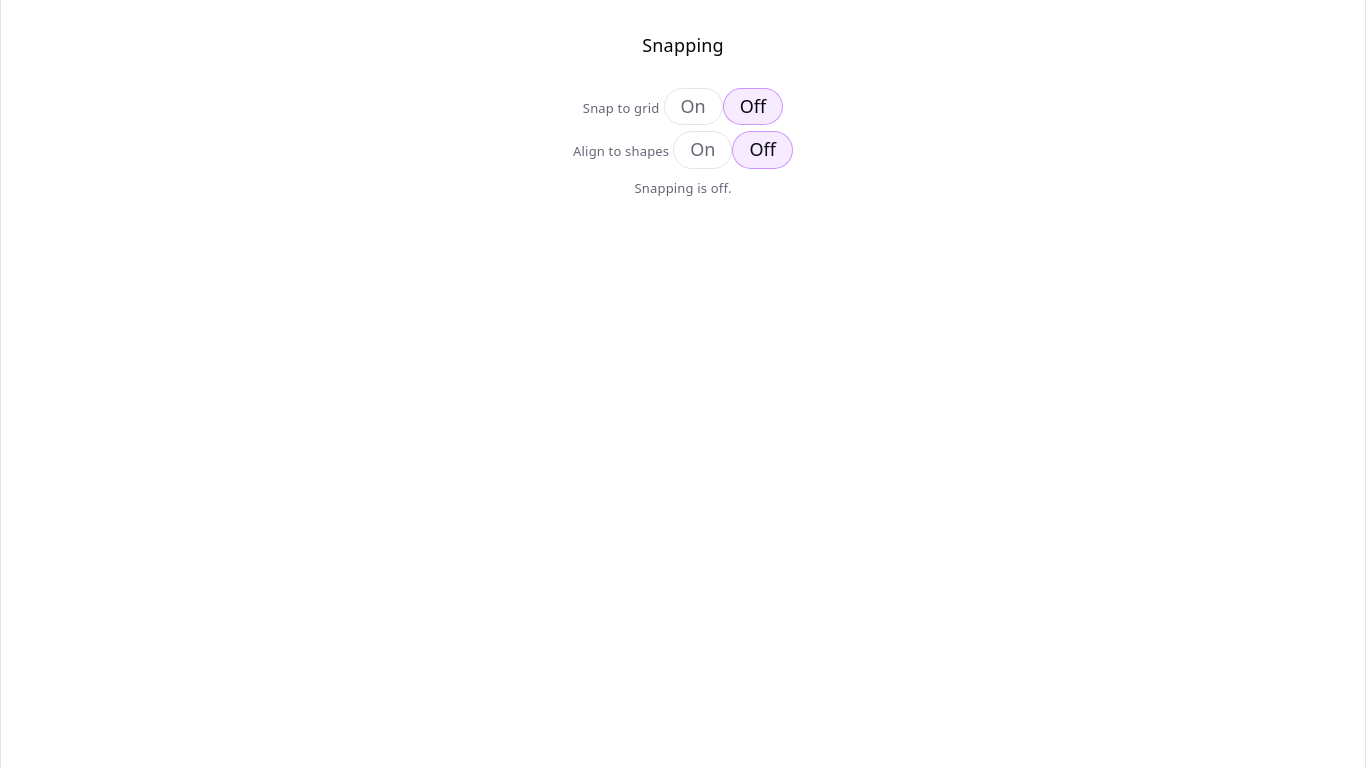
SnapPreferenceControl › turning on both grid and guides is reflected in the status region
Click the radio button labelled "On" next to "Snap to grid" at (693, 107), box [664,88,723,125]
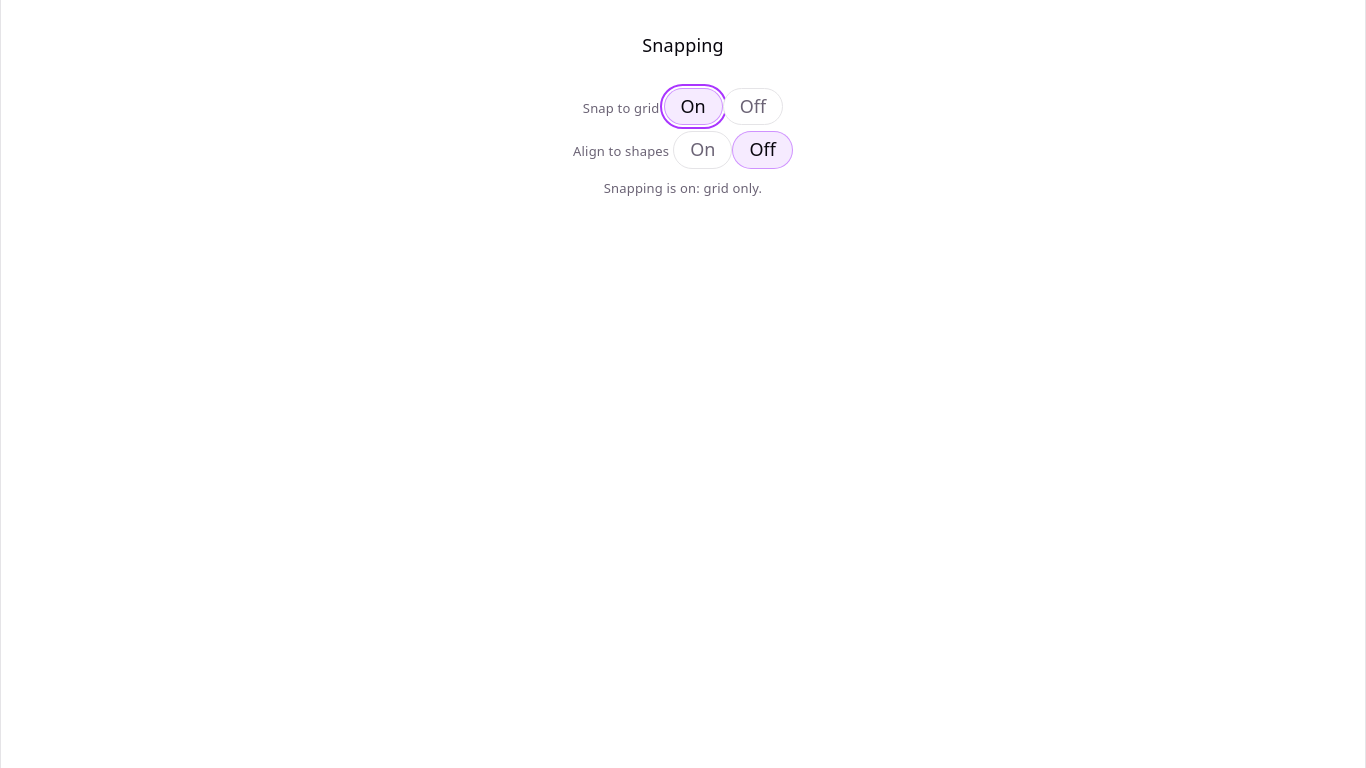
Click the radio button labelled "On" next to "Align to shapes" at (703, 150), box [673,131,732,169]
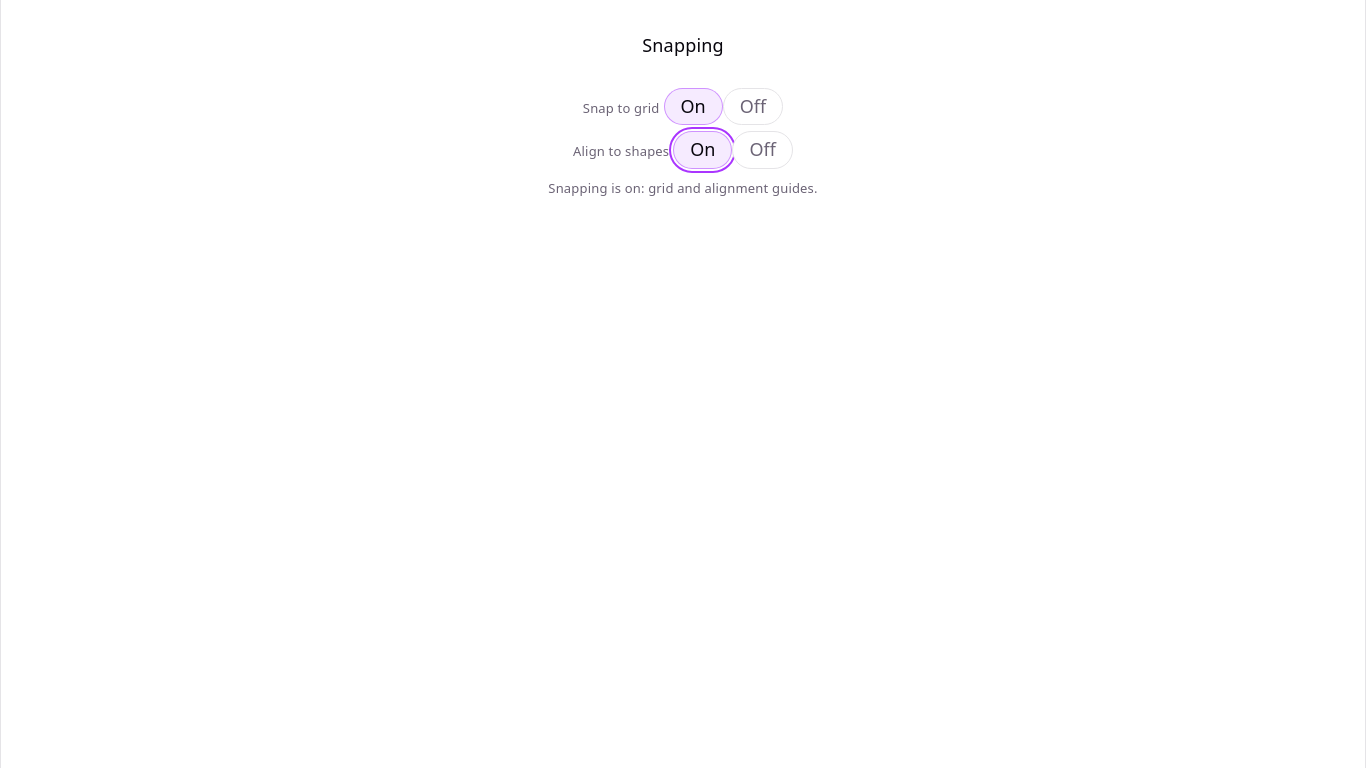
Result: the message reads "Snapping is on: grid and alignment guides." at [548,179,818,197]
